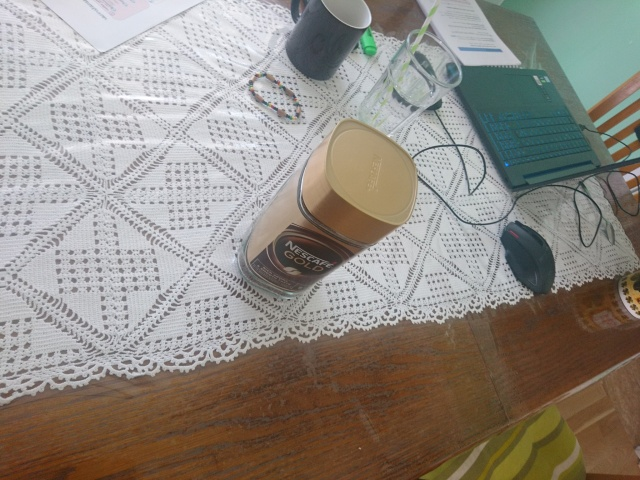Nescafe Gold 225g: (233, 116, 421, 303)
